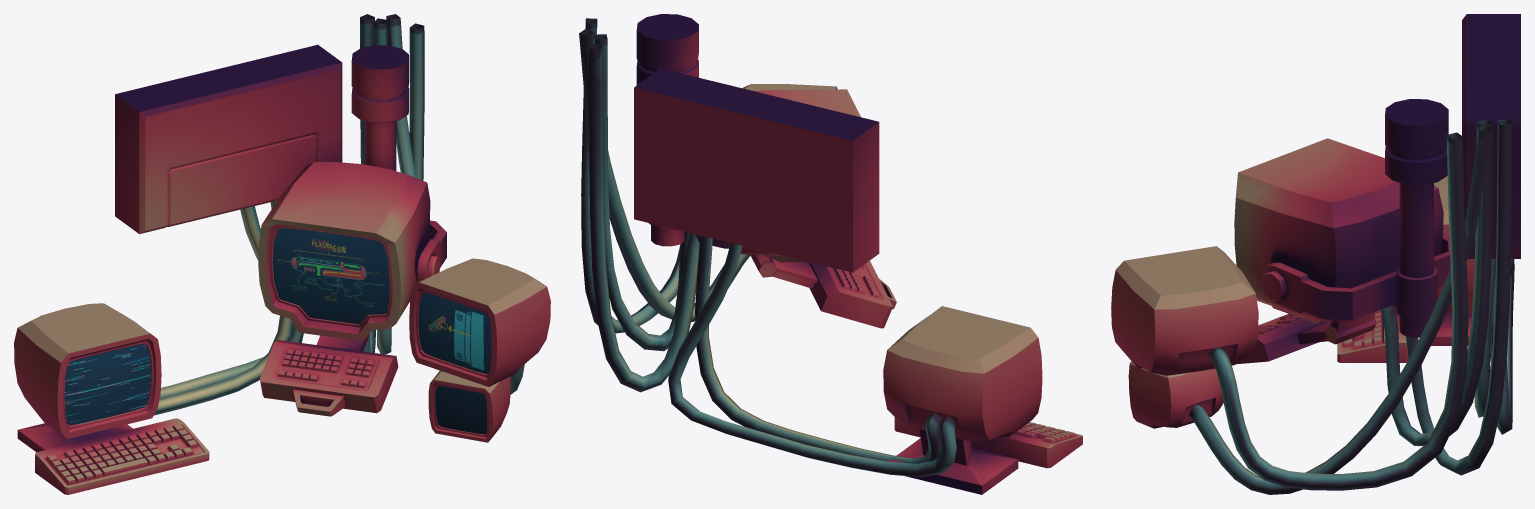
The model's file is ControlRoom_Computers.glb.
3 views of the same model, side by side, from view 1: azimuth 30°, elevation 25°; view 2: azimuth 150°, elevation 25°; view 3: azimuth 270°, elevation 25° (orthographic). The views are drawn at different scales.
Parts seen in each view (by area): view 1: Monitor_Computer, Monitor1, Monitor4, Monitor2, Monitor_Cables, Monitor_MobileKeyboard, Monitor_Keyboard, Monitor_Stand, Monitor3; view 2: Monitor_Computer, Monitor_Cables, Monitor4, Monitor_MobileKeyboard, Monitor_Stand, Monitor_Keyboard, Monitor1; view 3: Monitor_Cables, Monitor1, Monitor_Stand, Monitor2, Monitor_Computer, Monitor3, Monitor_MobileKeyboard, Monitor_Keyboard, Monitor4.
Part boxes in pixels (x1=…): Monitor_Computer: x1=115, y1=44, x2=342, y2=233; Monitor1: x1=258, y1=162, x2=430, y2=341; Monitor4: x1=14, y1=303, x2=161, y2=452; Monitor2: x1=409, y1=258, x2=550, y2=386; Monitor_Cables: x1=154, y1=14, x2=524, y2=415; Monitor_MobileKeyboard: x1=260, y1=332, x2=398, y2=416; Monitor_Keyboard: x1=35, y1=418, x2=209, y2=494; Monitor_Stand: x1=351, y1=45, x2=446, y2=282; Monitor3: x1=428, y1=370, x2=510, y2=442; Monitor_Computer: x1=634, y1=68, x2=879, y2=272; Monitor_Cables: x1=579, y1=18, x2=956, y2=477; Monitor4: x1=883, y1=306, x2=1042, y2=494; Monitor_MobileKeyboard: x1=750, y1=254, x2=896, y2=328; Monitor_Stand: x1=636, y1=14, x2=759, y2=250; Monitor_Keyboard: x1=894, y1=417, x2=1082, y2=468; Monitor1: x1=740, y1=89, x2=860, y2=262; Monitor_Cables: x1=1189, y1=119, x2=1514, y2=494; Monitor1: x1=1234, y1=138, x2=1443, y2=323; Monitor_Stand: x1=1262, y1=99, x2=1450, y2=337; Monitor2: x1=1111, y1=246, x2=1258, y2=375; Monitor_Computer: x1=1462, y1=14, x2=1520, y2=258; Monitor3: x1=1128, y1=361, x2=1223, y2=428; Monitor_MobileKeyboard: x1=1236, y1=312, x2=1376, y2=364; Monitor_Keyboard: x1=1337, y1=307, x2=1408, y2=362; Monitor4: x1=1393, y1=176, x2=1474, y2=345.
Size of the model in its own units: 2.37 by 1.84 by 1.83.
6 materials, 6 textured.
